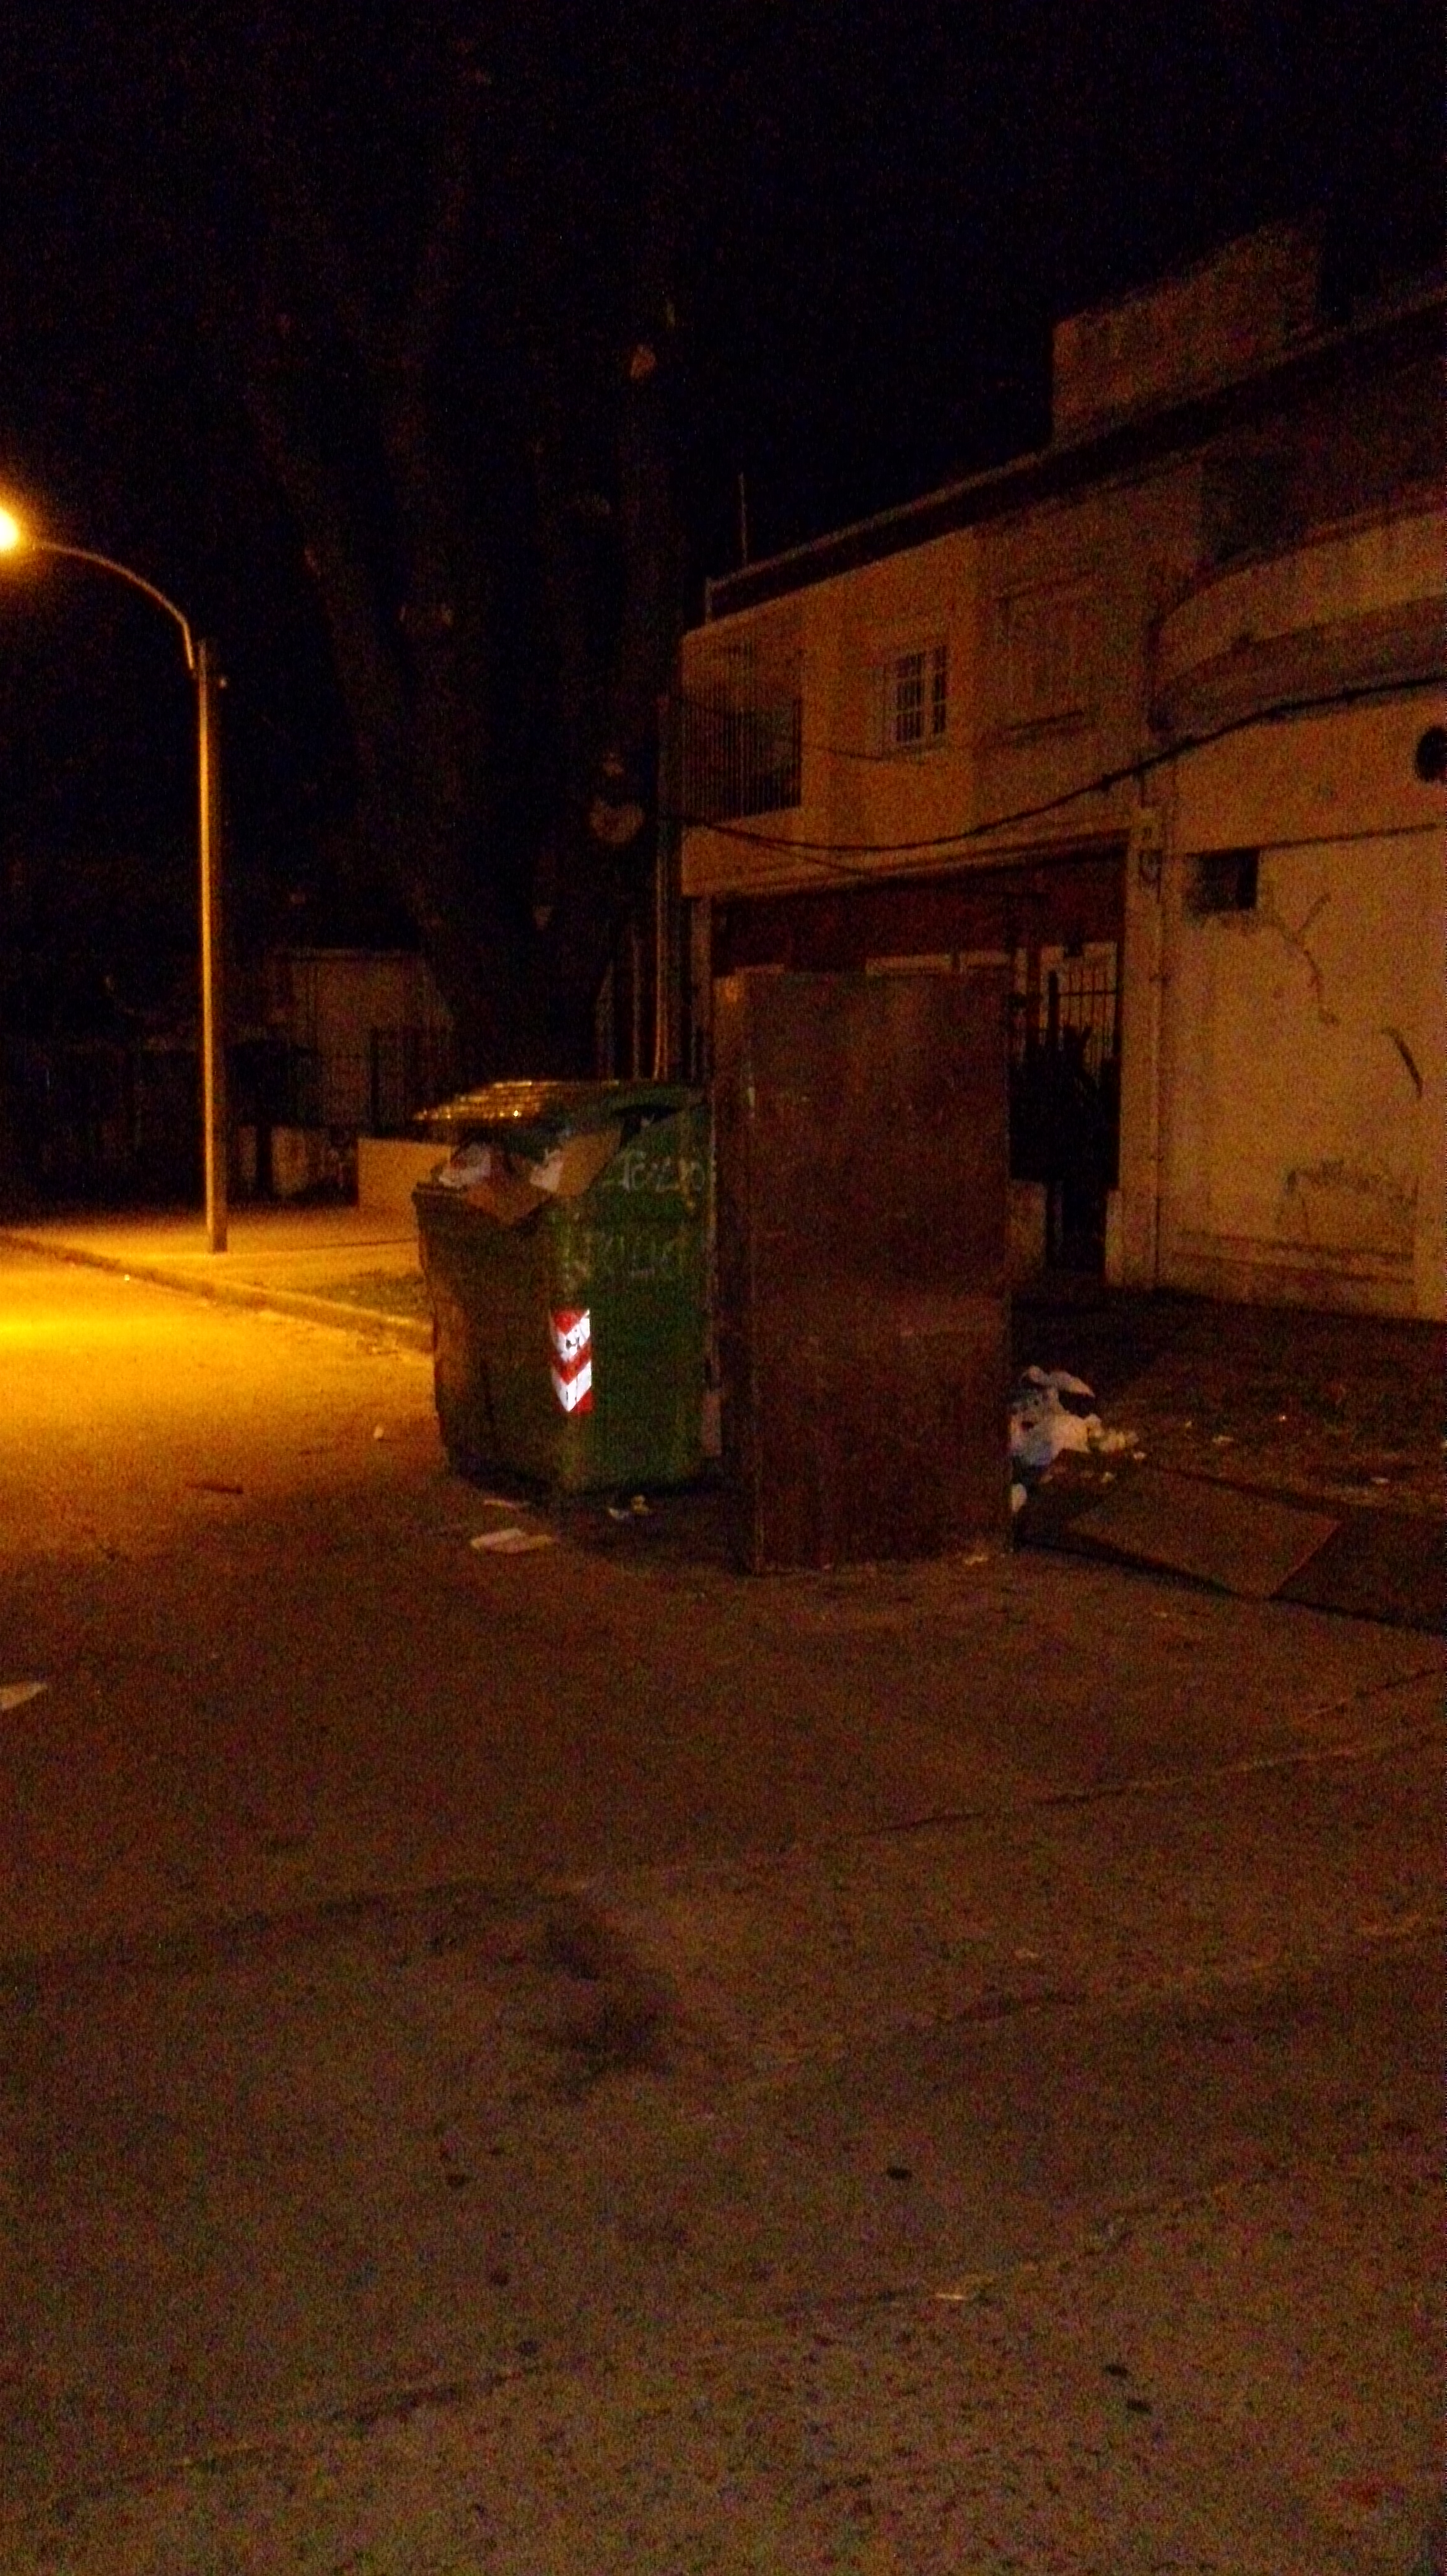container: (398, 1049, 746, 1518)
